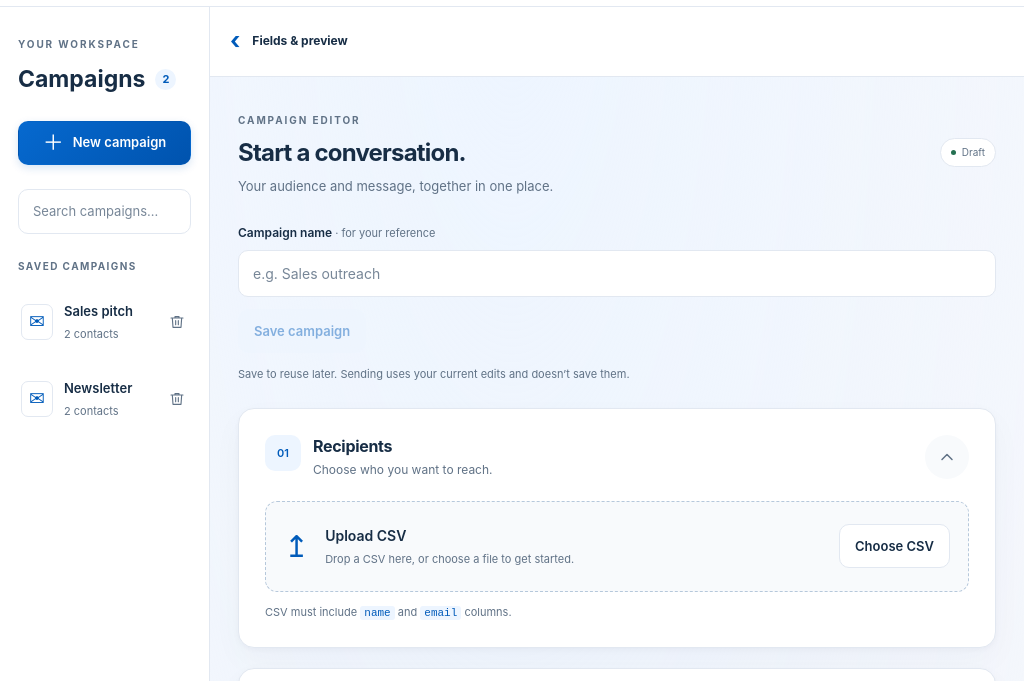
Test: deletes another campaign from the library without opening it or discarding current edits
The image size is (1036, 681).
Click the button "✉ Sales pitch 2 contacts": (85, 322) [11,287,159,357]
(page scrolled)
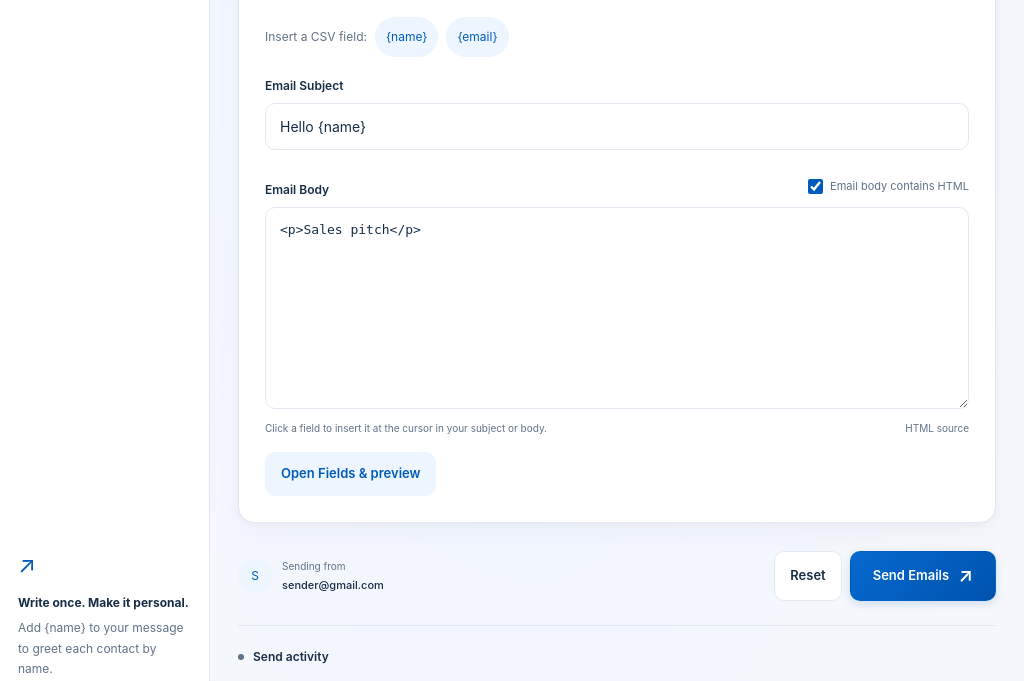
Now the text box showing "<p>Sales pitch</p>" is shown
Now the button with aria-label "Insert {name}" is shown, box [375,17,438,57]
Replace the text in the text box labelled "Email Body" with "Keep my sales edits": (617, 308) [265,207,969,409]
(page scrolled)
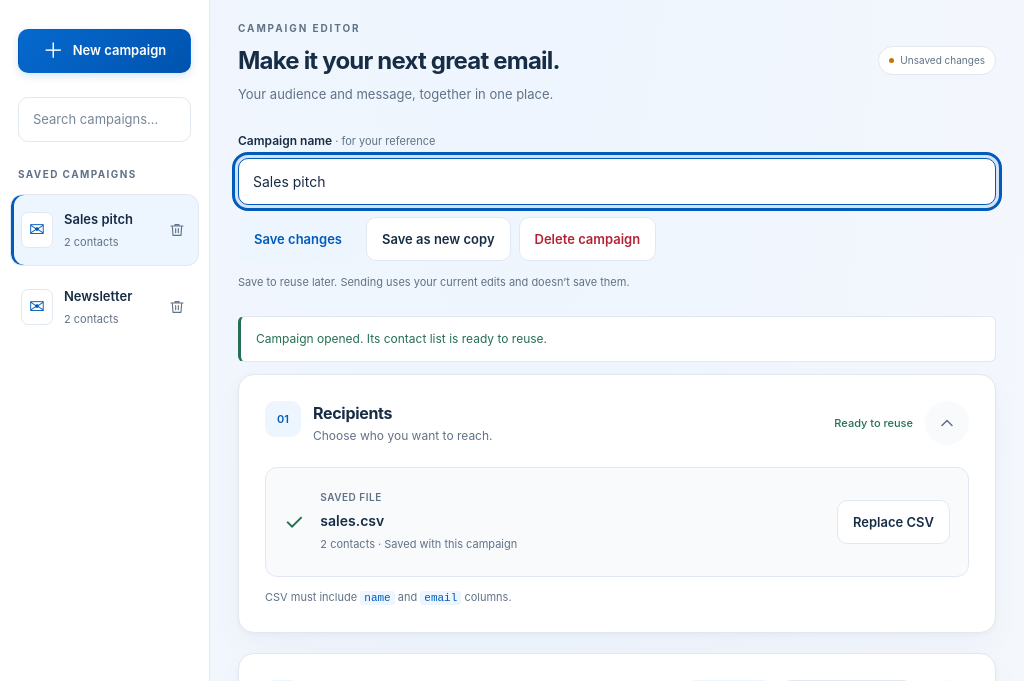
Click the button named "Delete campaign “Newsletter”": (177, 307) [159,289,195,325]
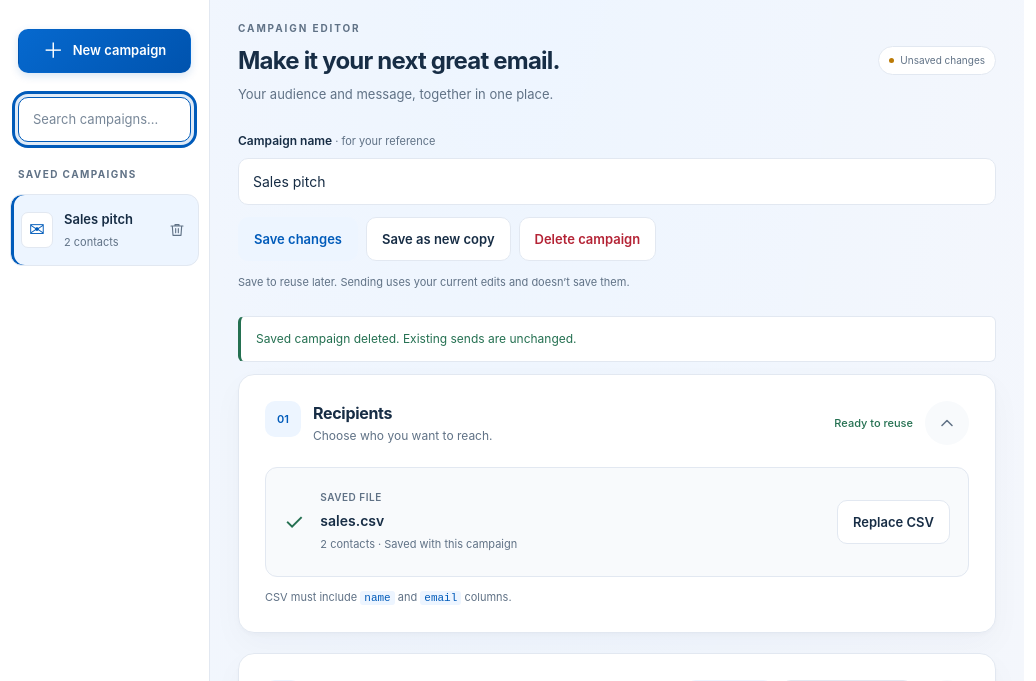
Now the field labelled "Campaign name · for your reference" holds "Sales pitch", box [238,158,996,205]
Now the text "Saved campaign deleted. Existing sends are unchanged." is shown, box [238,316,996,362]
Now the button "Newsletter 2 contacts" is gone
